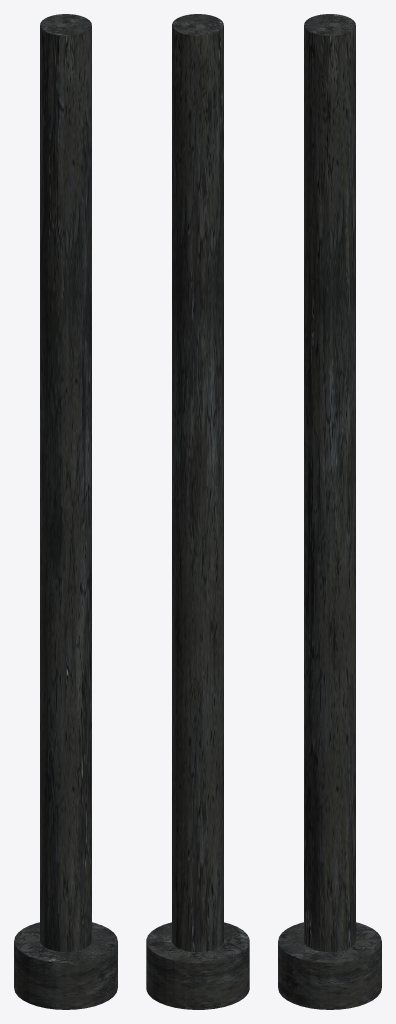
Rendered from lamp.obj.
3 renders of one model, left to right at view 1: azimuth 90°, elevation 25°; view 2: azimuth 210°, elevation 25°; view 3: azimuth 270°, elevation 25°, orthographic.
Visible parts, largest first — view 1: Cylinder.001; view 2: Cylinder.001; view 3: Cylinder.001.
Boxes of the visible parts, x1,y1,x2,y2 form: Cylinder.001: (14,14,117,1009); Cylinder.001: (146,14,249,1009); Cylinder.001: (278,14,381,1009).
Size of the model in its own units: 0.4 by 4.1 by 0.4.
1 material, 1 textured.
